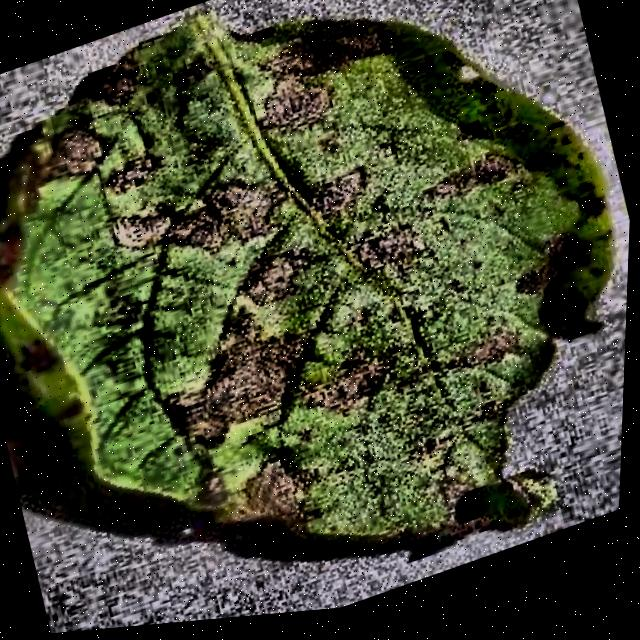Potato_leaf_early_blight: (0, 15, 613, 542)
